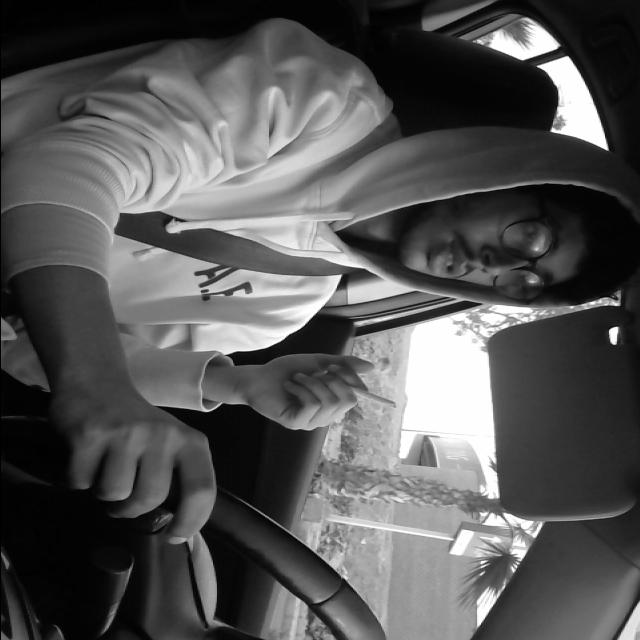smoking: (314, 382, 402, 412)
